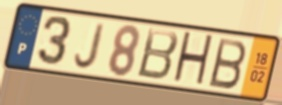3: (36, 15, 74, 68)
8: (106, 23, 142, 79)
B: (135, 26, 181, 82), (207, 36, 249, 92)
H: (170, 29, 216, 90)
J: (73, 21, 108, 71)
